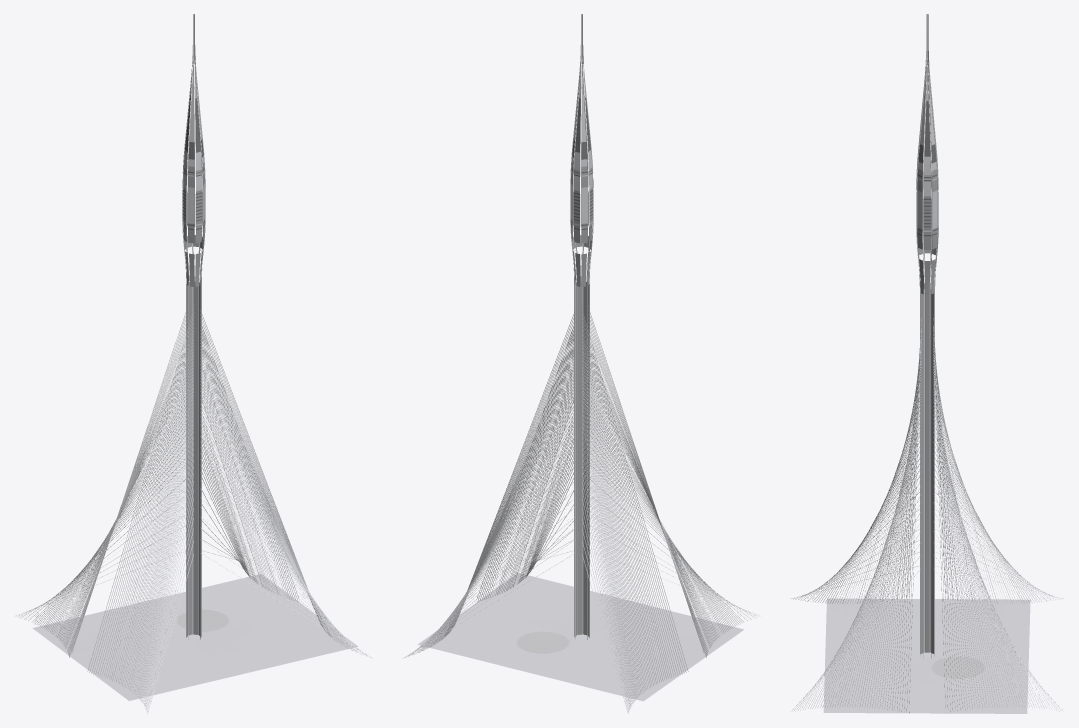
Rendered from t_creek.glb.
3 renders of one model, left to right at view 1: azimuth 30°, elevation 25°; view 2: azimuth 150°, elevation 25°; view 3: azimuth 270°, elevation 25°, orthographic. The views are drawn at different scales.
Parts seen in each view (by area): view 1: FrontSide_0 (×2), FrontSide_2, BackSide_1, BackSide_0, FrontSide_1; view 2: FrontSide_0 (×2), FrontSide_2, BackSide_1, BackSide_0, FrontSide_1; view 3: FrontSide_0 (×2), FrontSide_2, BackSide_1, BackSide_0, FrontSide_1.
Boxes of the visible parts, box(x1,y1,x2,y2) form: FrontSide_0 (×2): box(16, 14, 373, 713); FrontSide_2: box(183, 69, 204, 637); BackSide_1: box(183, 223, 204, 636); BackSide_0: box(183, 74, 204, 225); FrontSide_1: box(183, 98, 204, 230); FrontSide_0 (×2): box(402, 14, 759, 713); FrontSide_2: box(571, 69, 592, 637); BackSide_1: box(571, 223, 592, 636); BackSide_0: box(571, 74, 592, 225); FrontSide_1: box(571, 98, 592, 230); FrontSide_0 (×2): box(790, 14, 1064, 713); FrontSide_2: box(916, 67, 938, 653); BackSide_1: box(917, 232, 937, 653); BackSide_0: box(916, 74, 938, 231); FrontSide_1: box(917, 101, 937, 236).
Bounding box in the file's own units: 506 × 1300 × 504.
5 materials, 4 textured.
